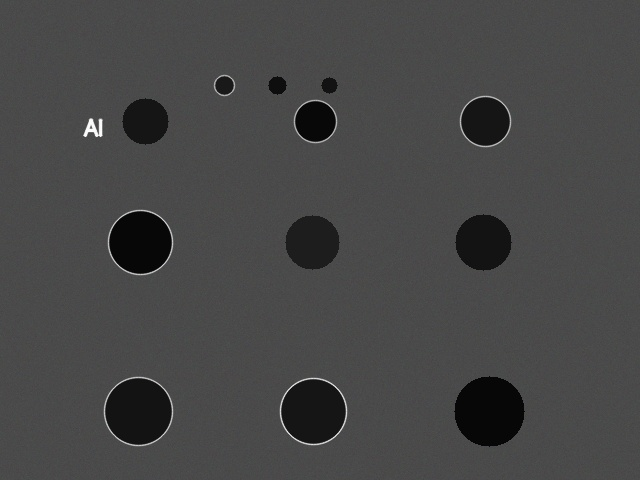hole: (454, 376, 524, 446), (104, 377, 172, 445), (280, 378, 346, 444), (108, 210, 172, 274), (455, 214, 511, 270), (285, 215, 339, 269), (460, 96, 510, 146), (122, 98, 168, 144), (294, 100, 336, 142), (214, 75, 234, 95), (268, 76, 286, 94), (321, 77, 337, 93)
